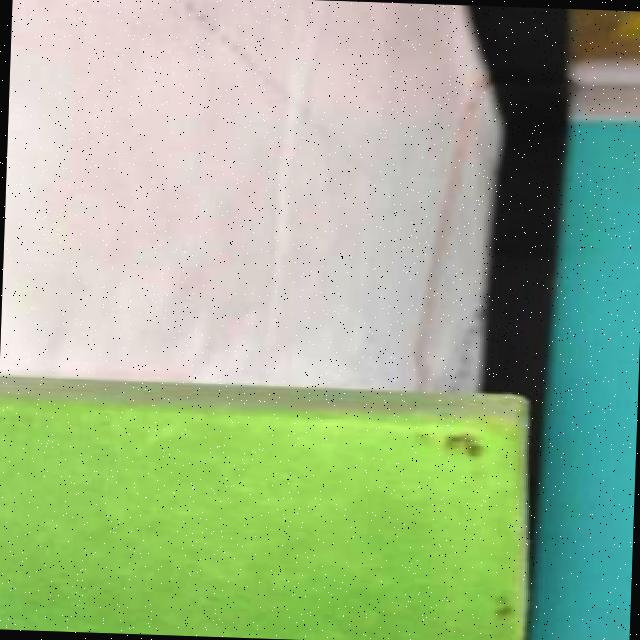greenbox: (0, 369, 542, 640)
